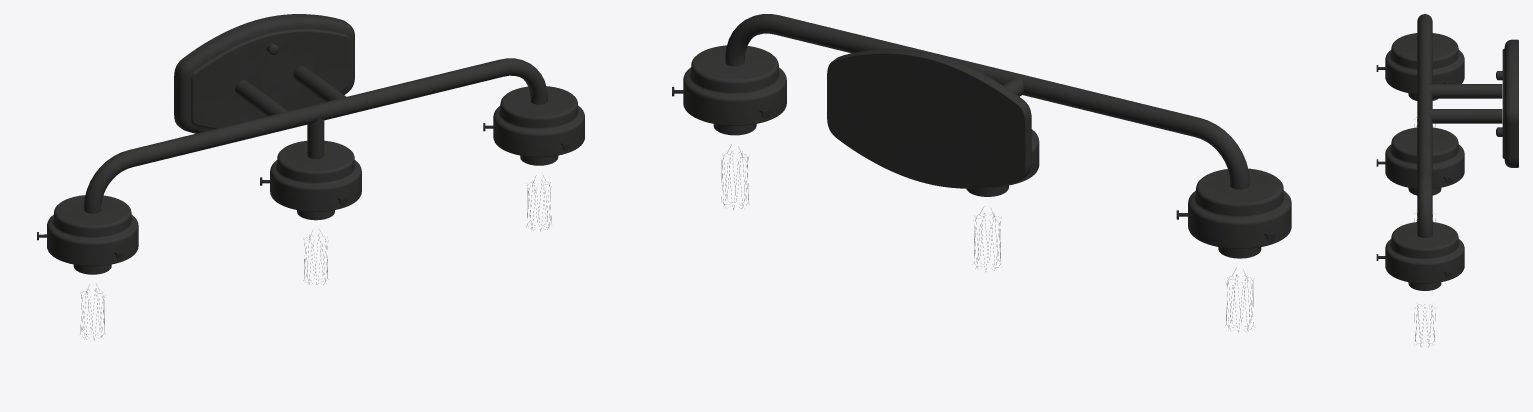
Rendered from abo-B07B51FDT9.glb.
The picture shows the model from 3 angles, left to right: view 1: azimuth 30°, elevation 25°; view 2: azimuth 150°, elevation 25°; view 3: azimuth 270°, elevation 25°; orthographic projection. The views are drawn at different scales.
Bounding box in the file's own units: 0.638 × 0.292 × 0.177.
1 material, 1 textured.
